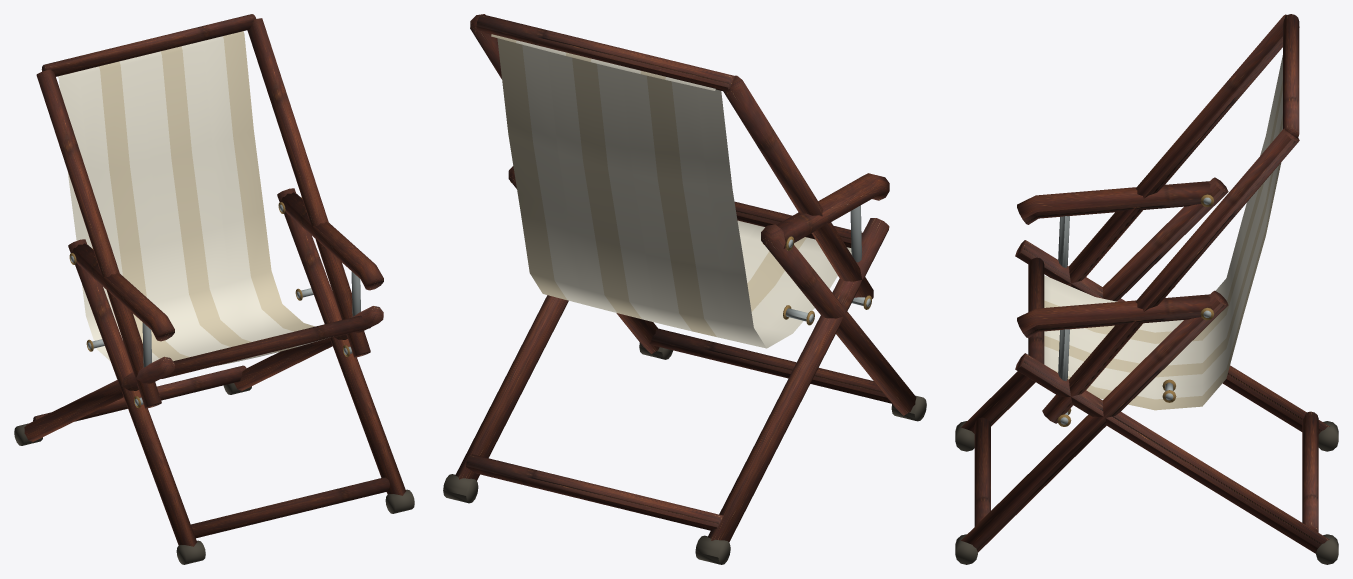
Rendered from canvas-deckchair.glb.
3 renders of one model, left to right at view 1: azimuth 30°, elevation 25°; view 2: azimuth 150°, elevation 25°; view 3: azimuth 270°, elevation 25°, orthographic. The views are drawn at different scales.
Parts seen in each view (by area): view 1: Frame; view 2: Frame; view 3: Frame.
Part boxes in pixels (bbox=[...]): Frame: bbox=[14, 14, 414, 564]; Frame: bbox=[443, 14, 926, 564]; Frame: bbox=[955, 14, 1338, 564].
Bounding box in the file's own units: 0.652 × 1.06 × 0.847.
6 materials, 1 textured.
